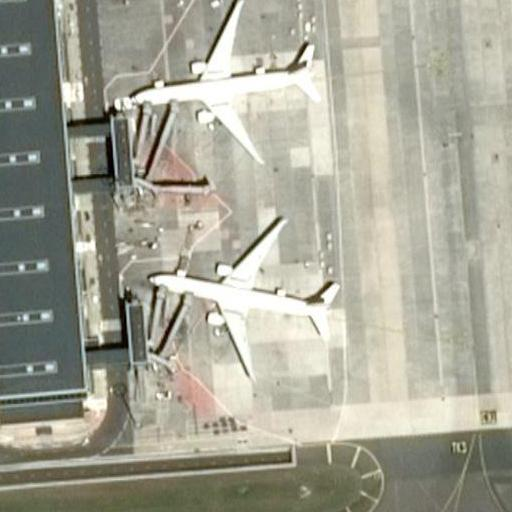Aircraft: (133, 215, 341, 381), (122, 6, 336, 162)
